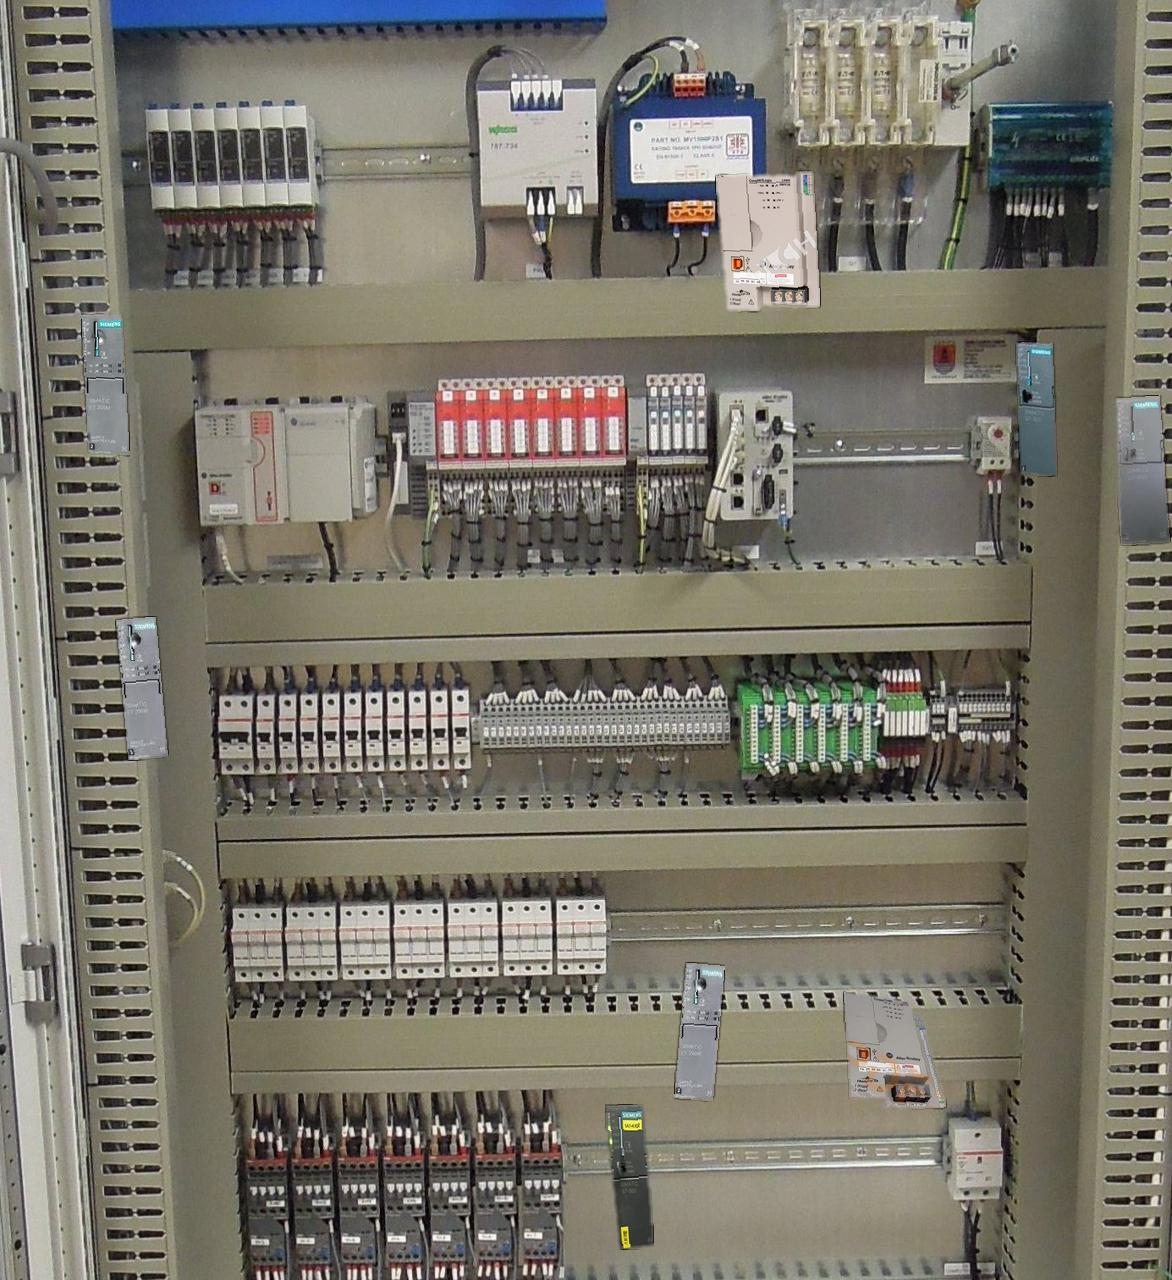AllenBradley: (716, 172, 819, 310), (844, 992, 945, 1107)
Siemens: (1116, 395, 1169, 544), (606, 1105, 653, 1249), (1017, 342, 1055, 475)
